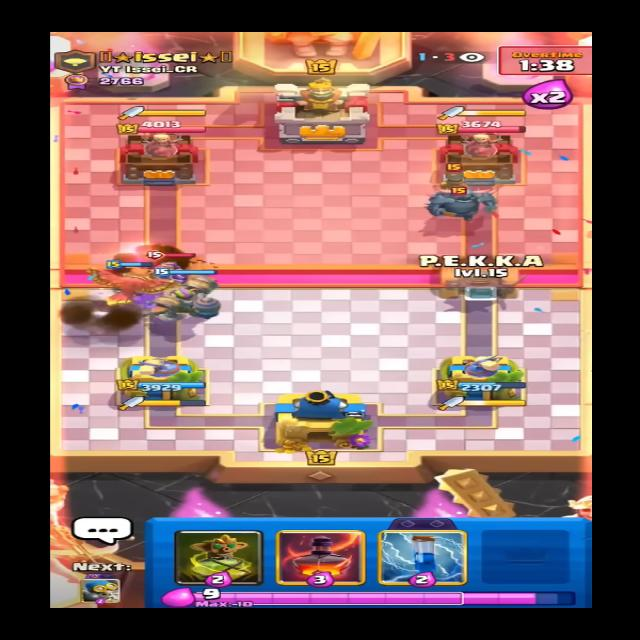evo-knight: (145, 246, 194, 286)
pekka: (420, 183, 504, 224)
ram-rider: (429, 163, 474, 199)
